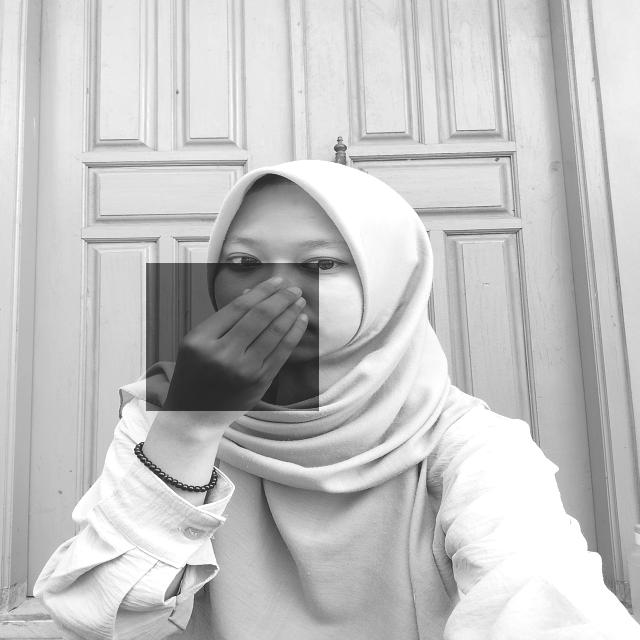bau: (146, 263, 319, 411)
